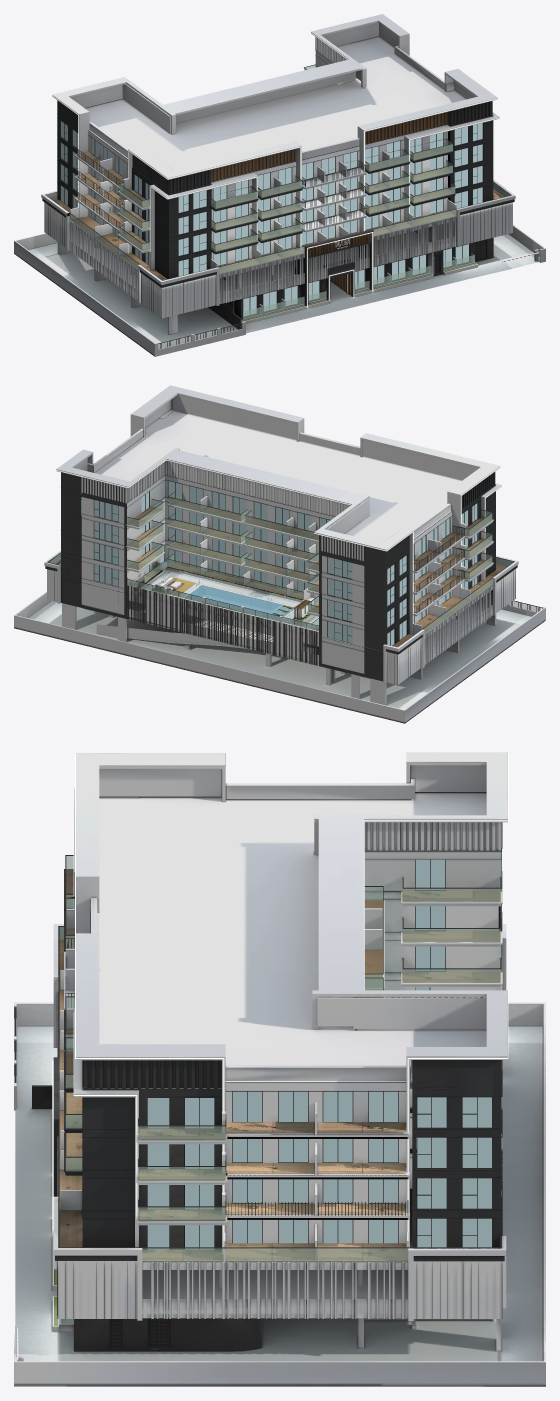
Rendered from KWEC_build.glb.
3 renders of one model, top to bottom at view 1: azimuth 30°, elevation 25°; view 2: azimuth 150°, elevation 25°; view 3: azimuth 270°, elevation 25°, orthographic. The views are drawn at different scales.
Parts seen in each view (by area): view 1: Build_KWEC; view 2: Build_KWEC; view 3: Build_KWEC.
Boxes of the visible parts, <box> form: Build_KWEC: <box>14,14,545,356</box>; Build_KWEC: <box>14,385,545,723</box>; Build_KWEC: <box>14,752,545,1386</box>.
Size of the model in its own units: 66.67 by 26.24 by 41.68.
10 materials, 3 textured.
